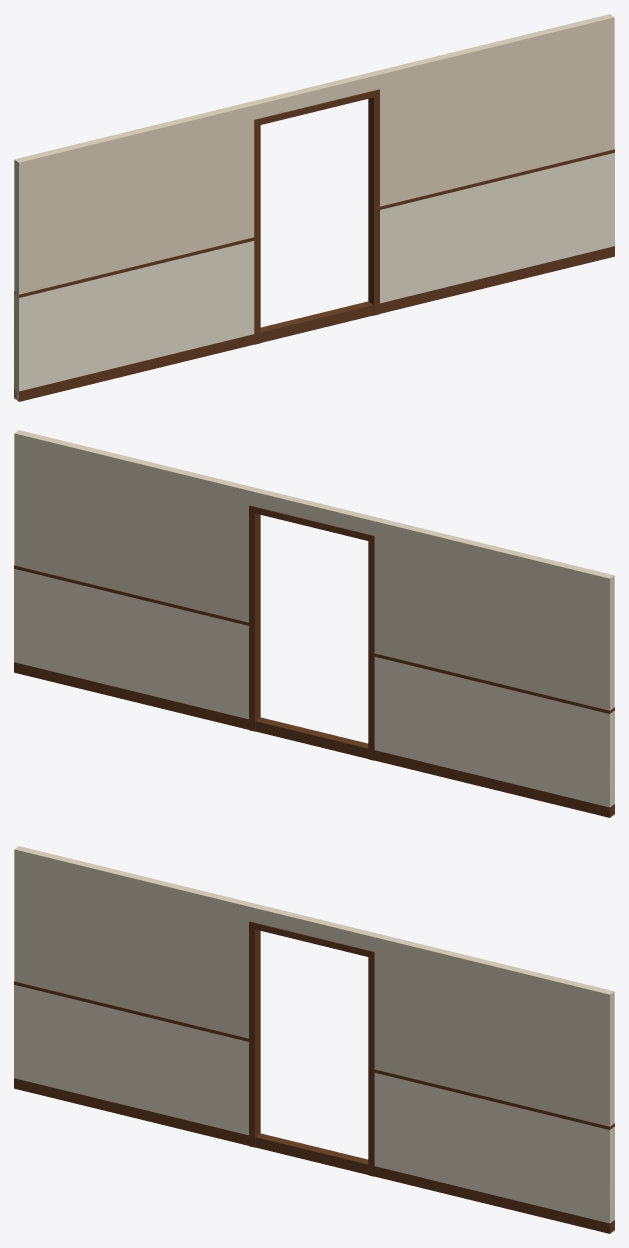
The model's file is wall_doorway.glb.
The picture shows the model from 3 angles, top to bottom: view 1: azimuth 30°, elevation 25°; view 2: azimuth 150°, elevation 25°; view 3: azimuth 330°, elevation 25°; orthographic projection.
Parts seen in each view (by area): view 1: wall_doorway; view 2: wall_doorway; view 3: wall_doorway.
Boxes of the visible parts, bbox=[...] form: wall_doorway: bbox=[14, 14, 614, 401]; wall_doorway: bbox=[14, 430, 614, 817]; wall_doorway: bbox=[14, 846, 614, 1233].
Bounding box in the file's own units: 6 × 2.3 × 0.1.
